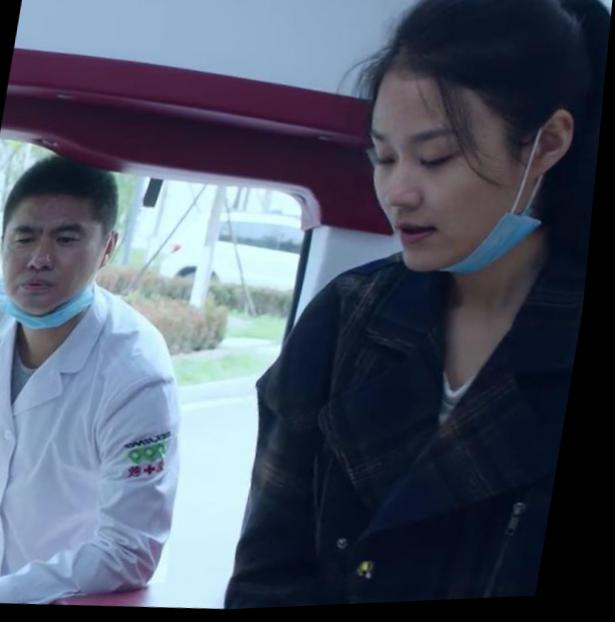WRONG: (351, 97, 549, 290), (1, 204, 107, 325)
